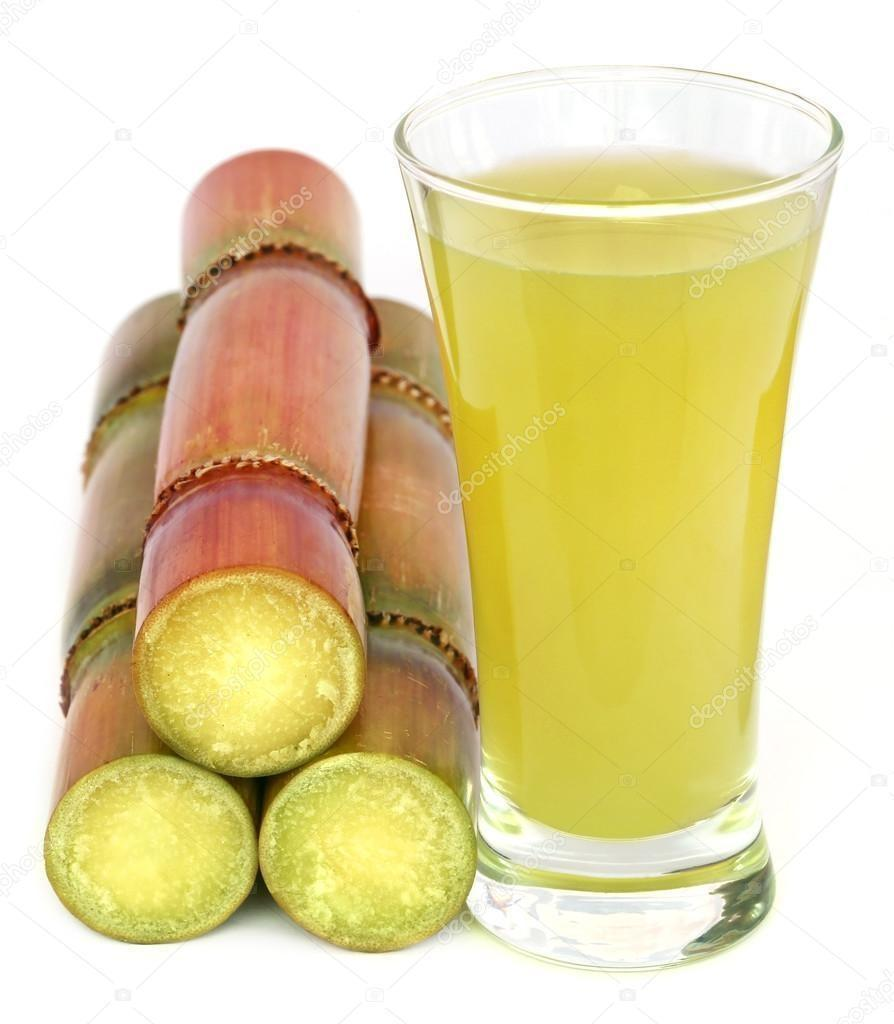glass-normal: (388, 60, 845, 970)
